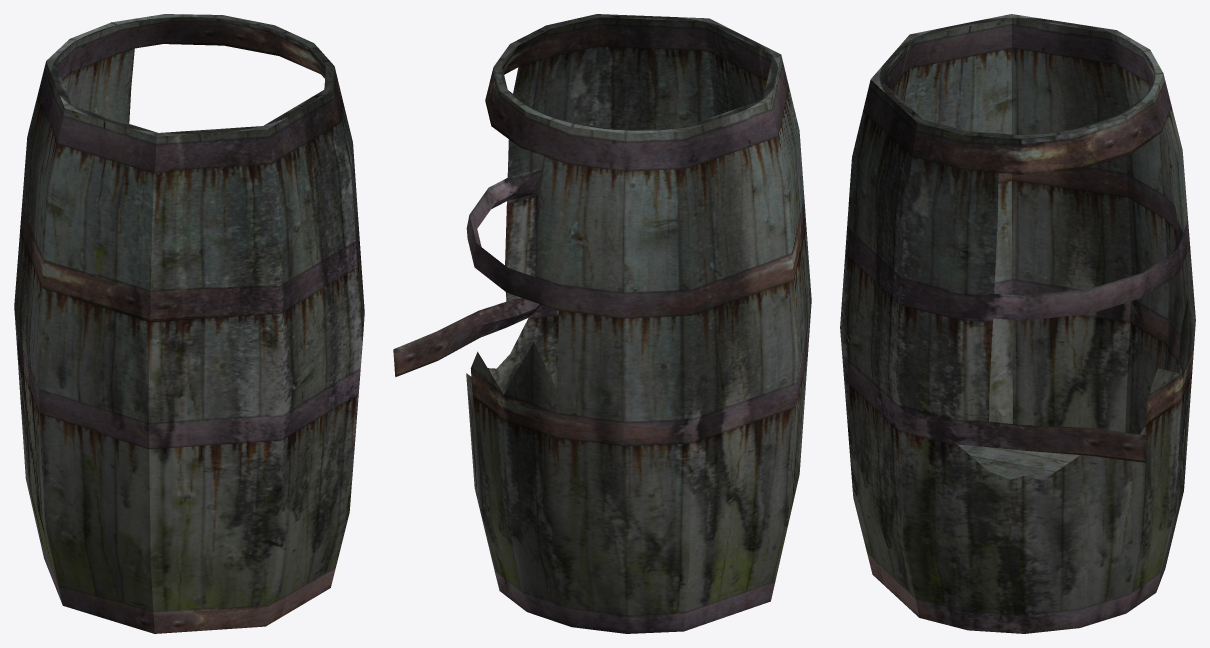
The model's file is Barrel_damaged_LOD02.fbx.
The picture shows the model from 3 angles, left to right: view 1: azimuth 30°, elevation 25°; view 2: azimuth 150°, elevation 25°; view 3: azimuth 270°, elevation 25°; orthographic projection.
Parts seen in each view (by area): view 1: Mesh Object; view 2: Mesh Object; view 3: Mesh Object.
Boxes of the visible parts, <box> form: Mesh Object: <box>14,14,364,633</box>; Mesh Object: <box>393,14,811,633</box>; Mesh Object: <box>840,14,1195,633</box>.
Bounding box in the file's own units: 0.7699 × 1.09 × 0.7084.
